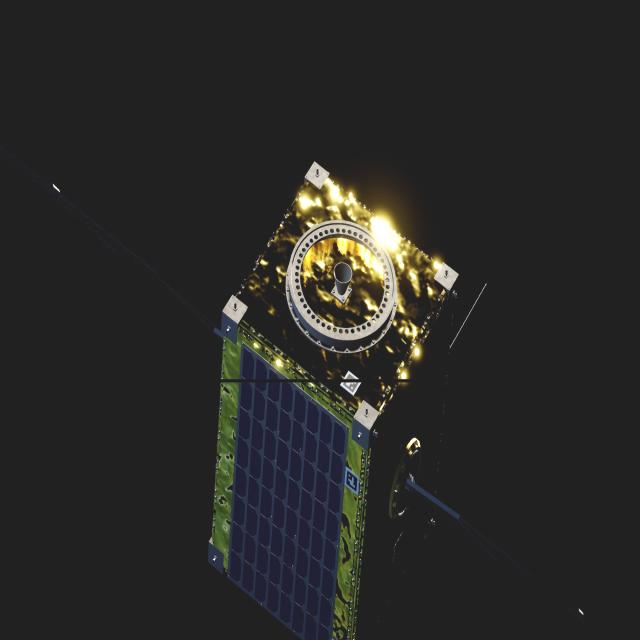medium_debris: (208, 162, 488, 640)
